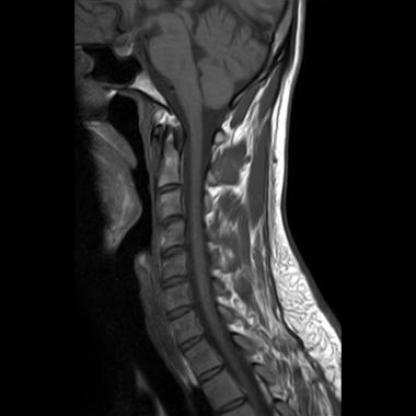Degenerative Disc Diseaserotation: (166, 304, 198, 320), (158, 245, 187, 260), (155, 215, 186, 229)
